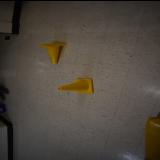cone: (38, 42, 66, 64), (57, 77, 94, 93)
